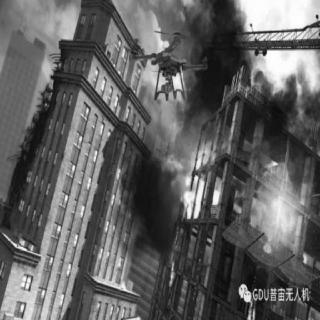Fire: (156, 100, 312, 261)
